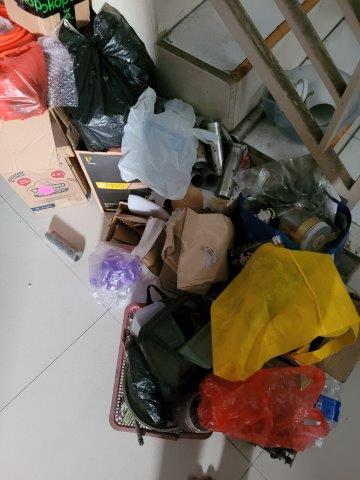botolplastik: (318, 378, 342, 449)
kardus: (1, 123, 95, 213), (3, 1, 78, 32)
plastik: (204, 374, 324, 450), (63, 15, 160, 109), (118, 89, 200, 199), (1, 30, 50, 118), (86, 249, 157, 304)
